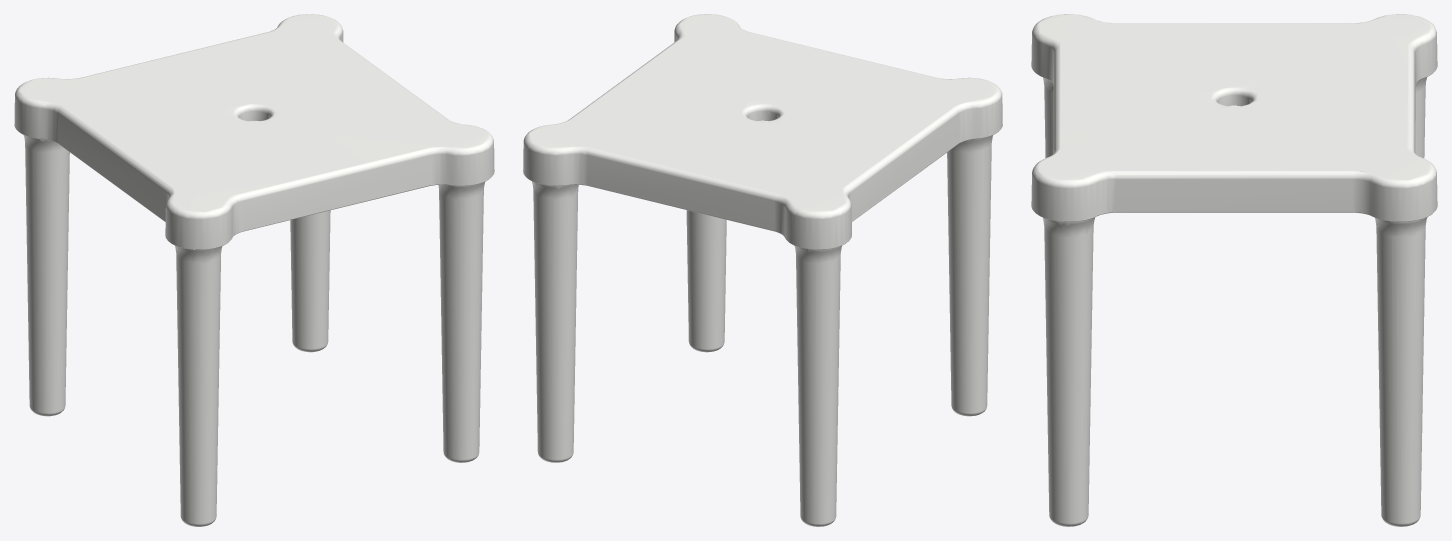
Rendered from 04 - UTTER Children_s stool - inoutdoorwhite.glb.
The picture shows the model from 3 angles, left to right: view 1: azimuth 30°, elevation 25°; view 2: azimuth 150°, elevation 25°; view 3: azimuth 270°, elevation 25°; orthographic projection. The views are drawn at different scales.
Visible parts, largest first — view 1: 50357785-UTTER001; view 2: 50357785-UTTER001; view 3: 50357785-UTTER001.
Boxes of the visible parts, box(x1,y1,x2,y2) form: 50357785-UTTER001: box(14, 14, 494, 526); 50357785-UTTER001: box(523, 14, 1002, 526); 50357785-UTTER001: box(1031, 14, 1437, 526).
Bounding box in the file's own units: 0.2772 × 0.266 × 0.2772.
1 material, 1 textured.
